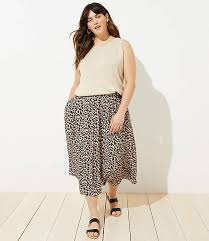C_T-shirt: (72, 41, 136, 96)
C_skirt: (56, 88, 153, 200)
